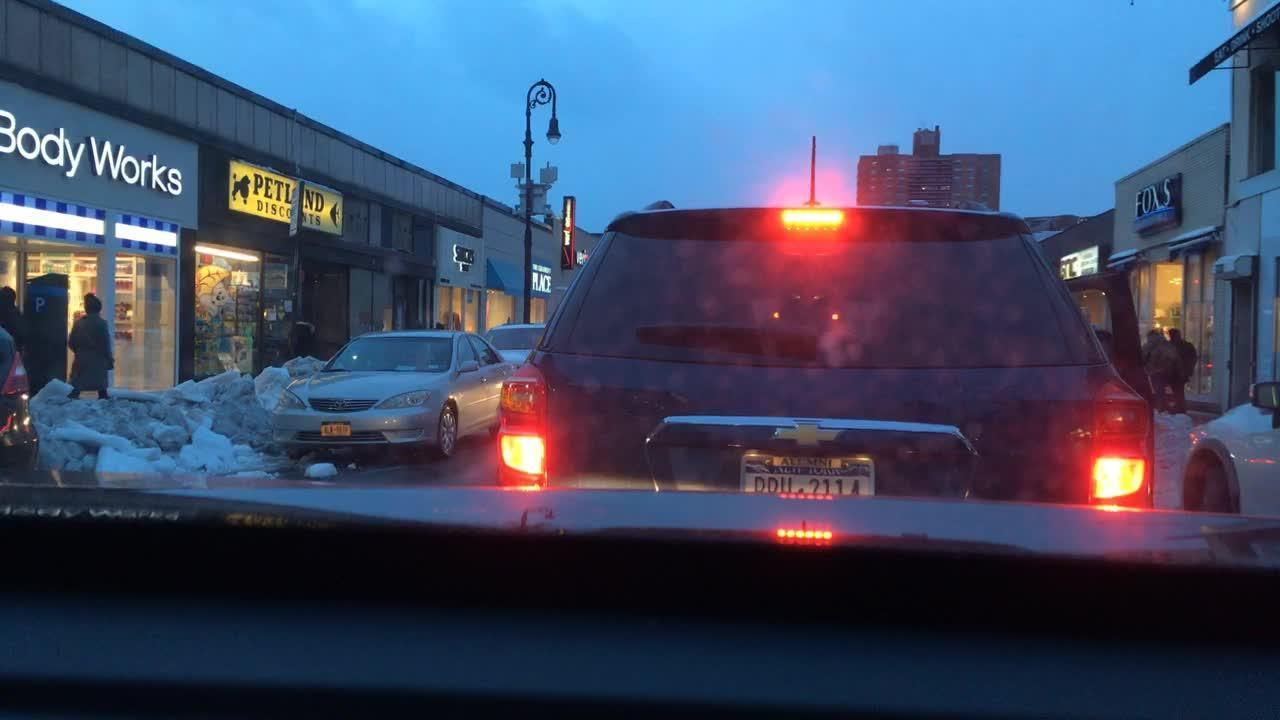chevrolet: (750, 407, 857, 454)
